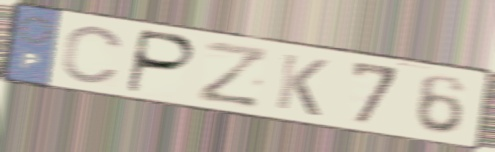6: (414, 72, 468, 138)
7: (348, 58, 403, 127)
C: (59, 24, 127, 86)
K: (272, 50, 332, 119)
P: (123, 27, 200, 97)
Z: (194, 37, 272, 110)
